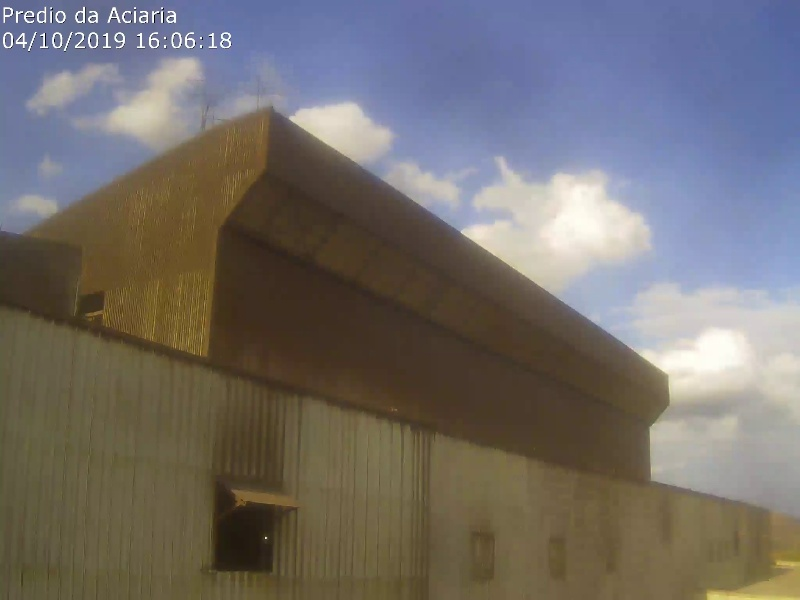bom: (264, 63, 702, 440), (27, 27, 268, 142)
